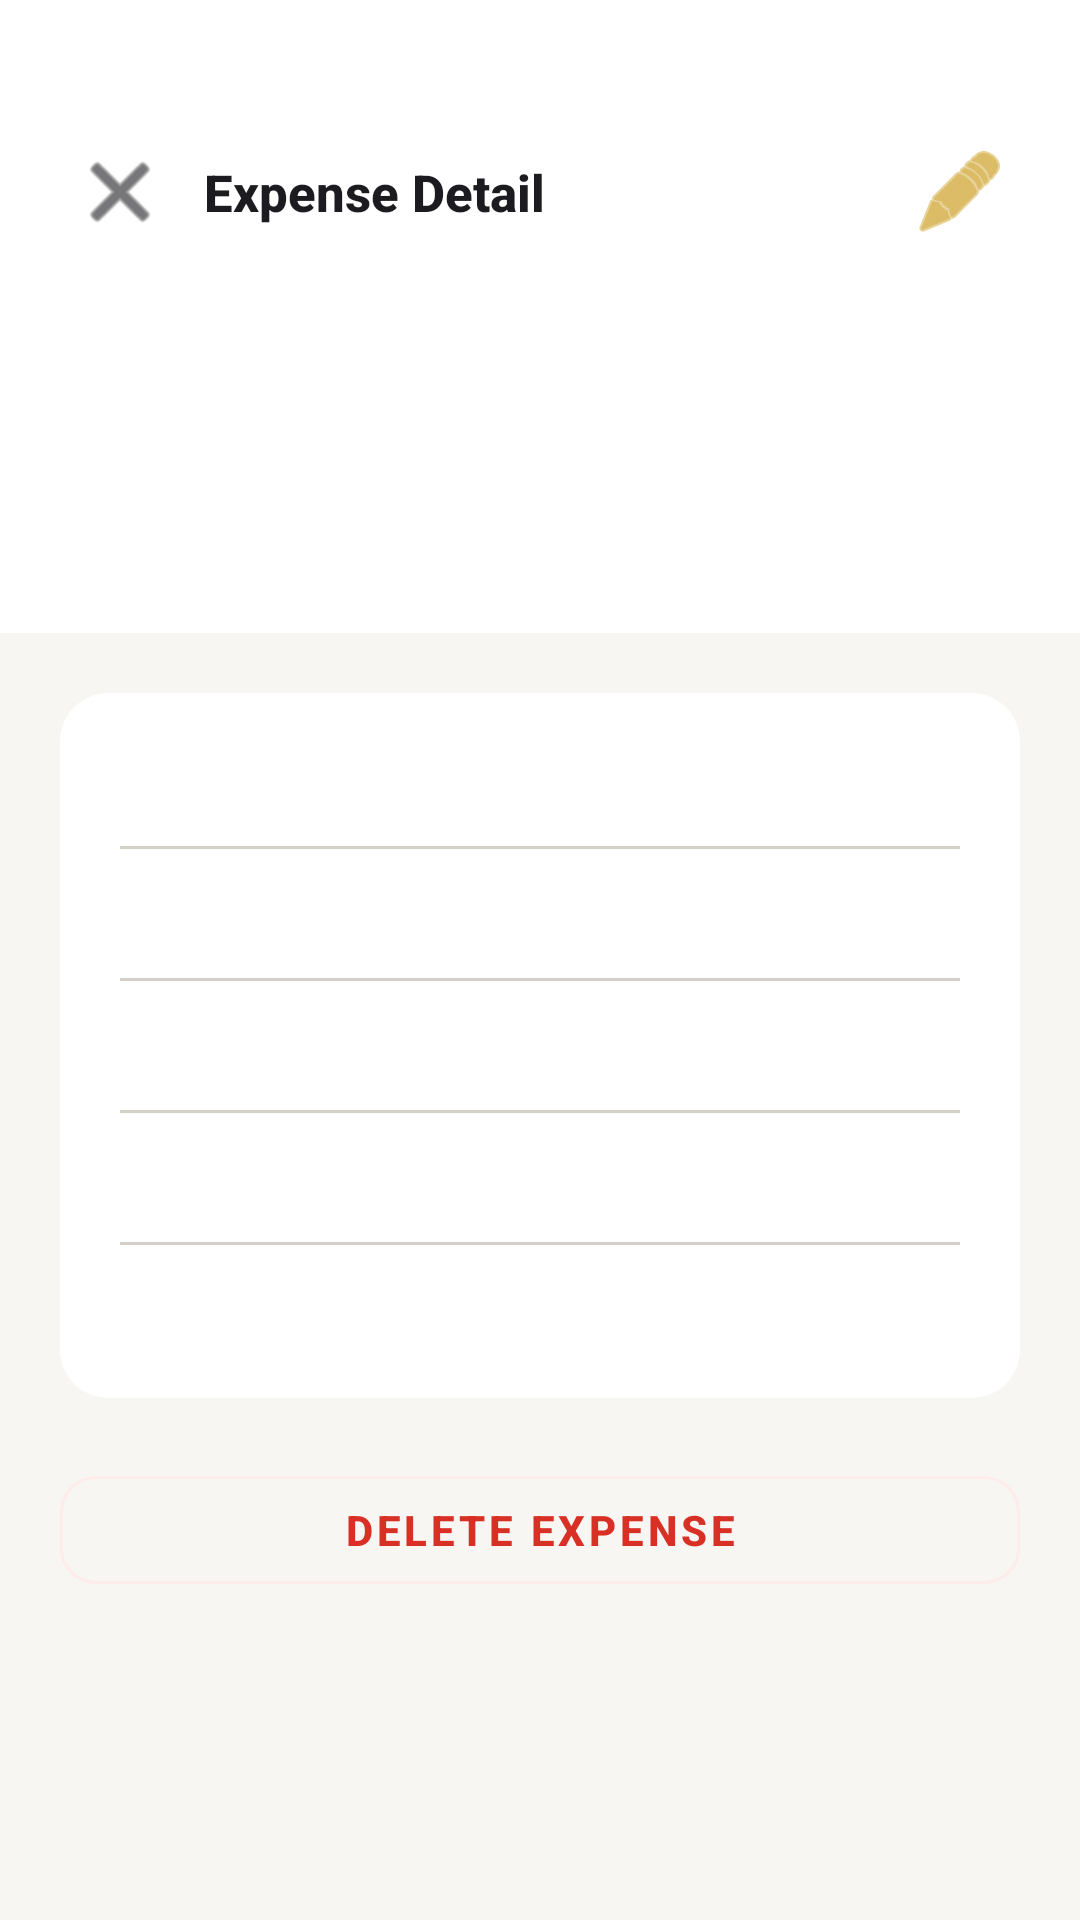

Where icons sit on this 1080x1920 app screen, as (x1=x1, y1=y1, x2=x2, y2=y2):
close clear cancel: (x1=90, y1=162, x2=150, y2=222)
edit: (x1=919, y1=151, x2=1000, y2=232)
